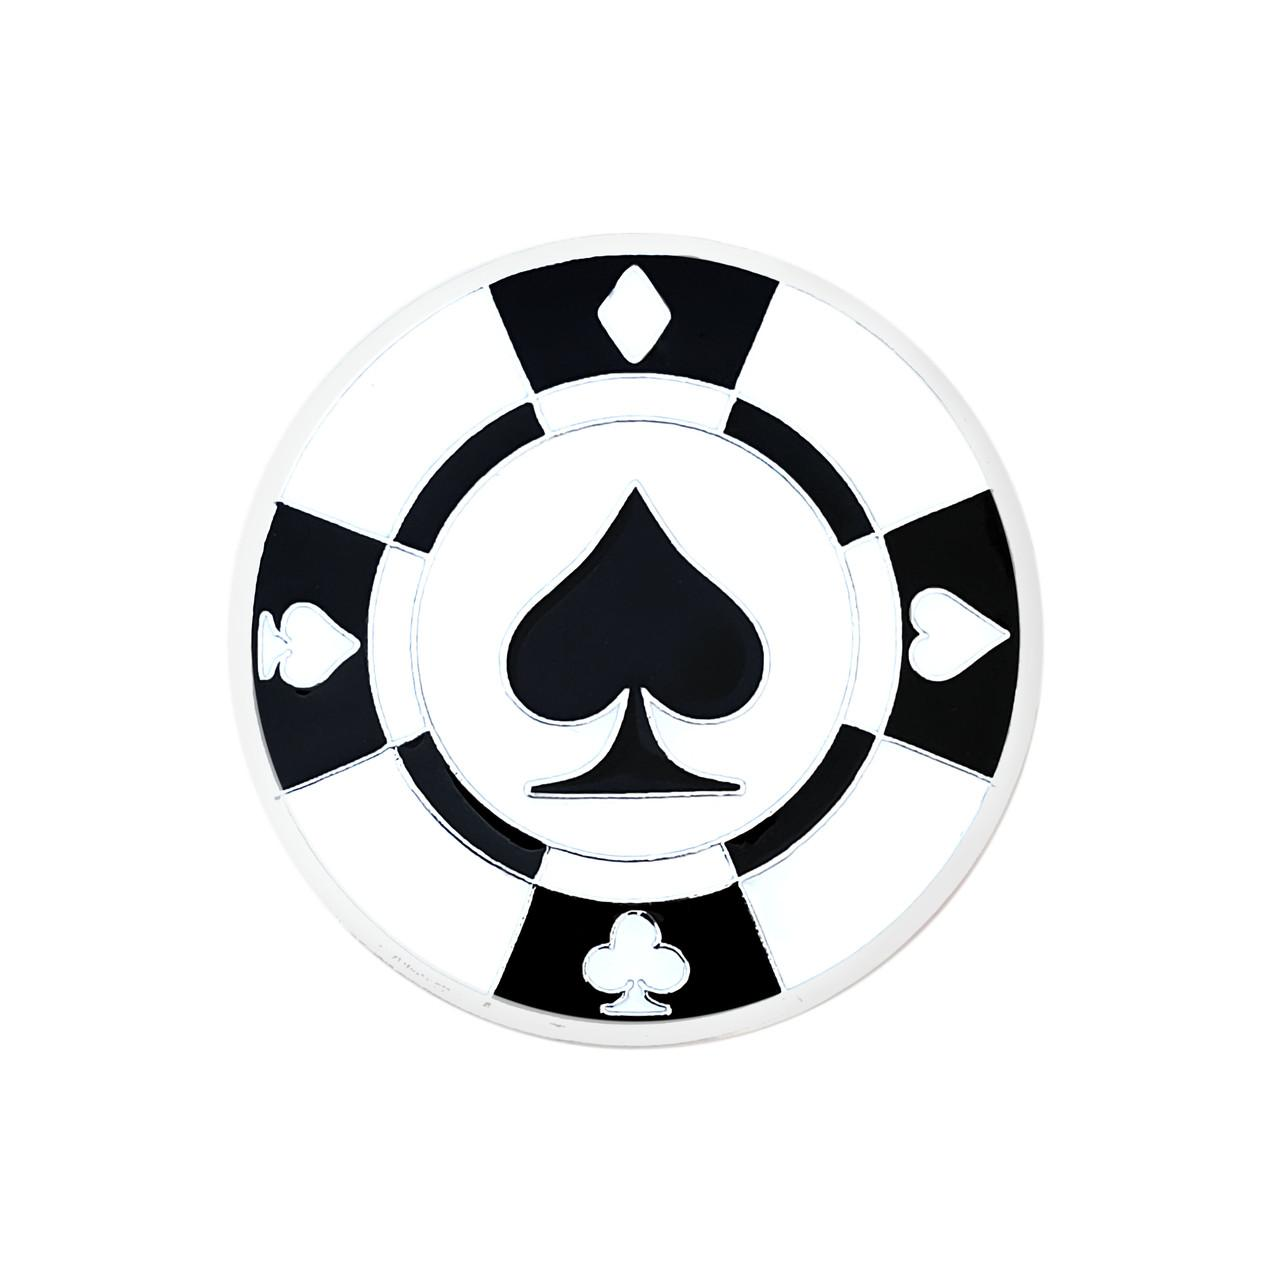chip-white: (230, 234, 1040, 1047)
